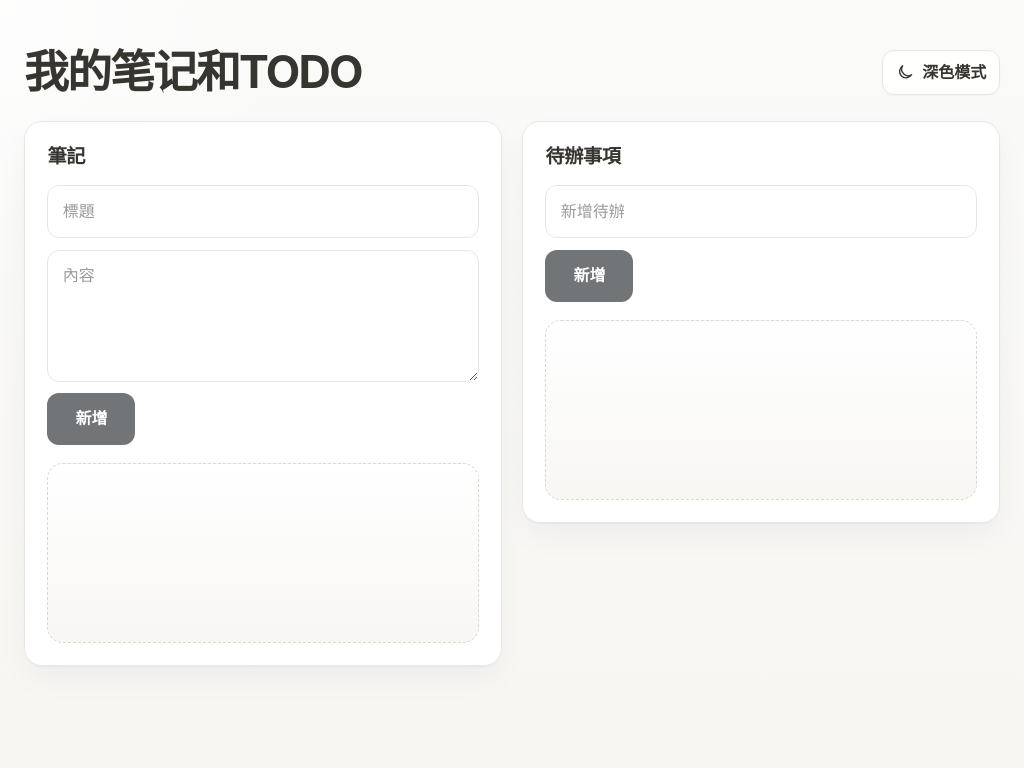
Test: HomeClient interactions › toggles and remembers the color theme
The image size is (1024, 768).
Click the button with aria-label "切換為深色模式": {"x": 941, "y": 73} x1=882 y1=50 x2=1000 y2=95
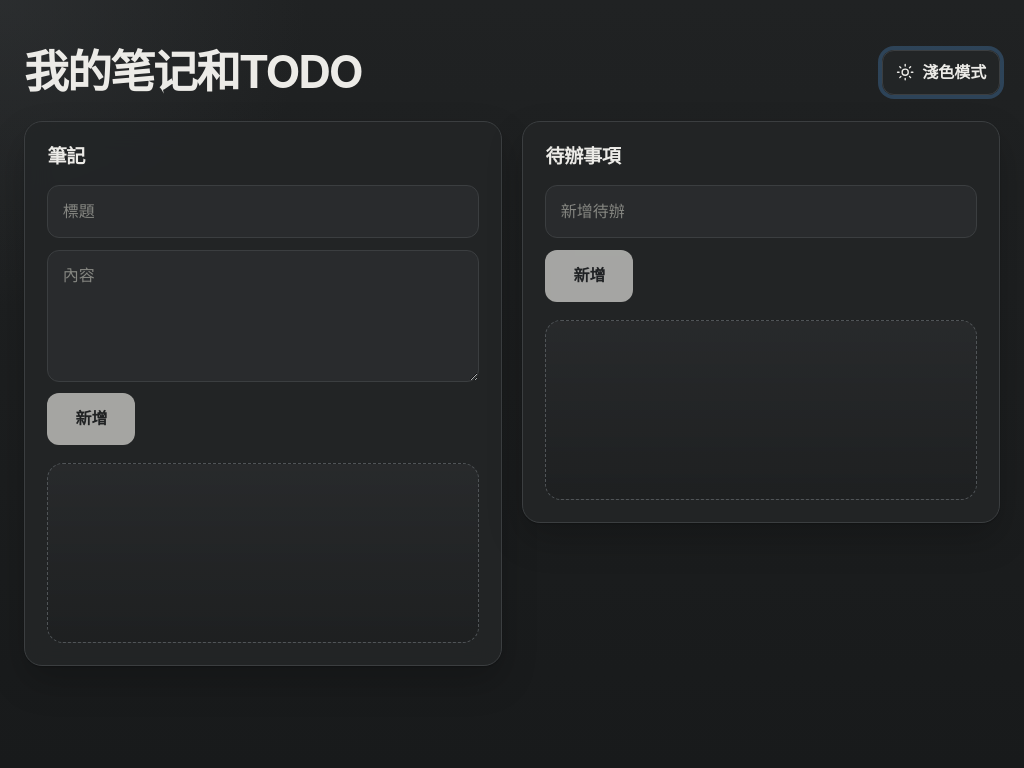
Check: the button with aria-label "切換為淺色模式" is shown, box x1=882 y1=50 x2=1000 y2=95
